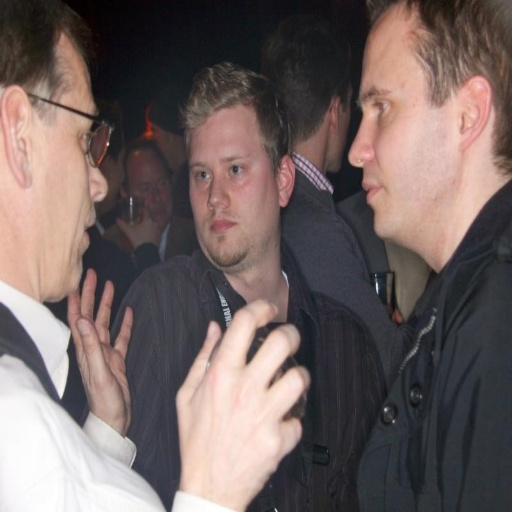hand: (184, 270, 309, 507), (65, 267, 134, 437), (115, 204, 160, 250), (392, 306, 404, 327)
